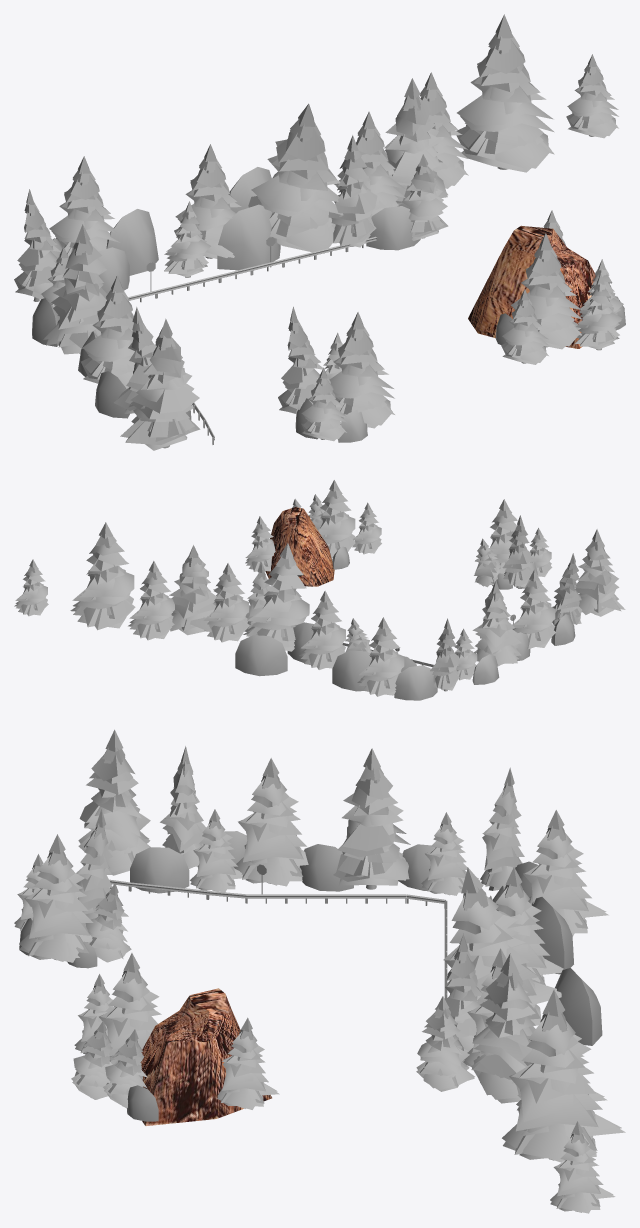
The model's file is Zone_17.fbx.
3 renders of one model, top to bottom at view 1: azimuth 30°, elevation 25°; view 2: azimuth 150°, elevation 25°; view 3: azimuth 270°, elevation 25°, orthographic. The views are drawn at different scales.
Visible parts, largest first — view 1: polymsh22; view 2: polymsh22; view 3: polymsh22.
Part boxes in pixels (x1=…): polymsh22: x1=14, y1=14, x2=625, y2=450; polymsh22: x1=14, y1=480, x2=625, y2=700; polymsh22: x1=14, y1=729, x2=625, y2=1213.
Bounding box in the file's own units: 57.21 × 12.36 × 39.28.
